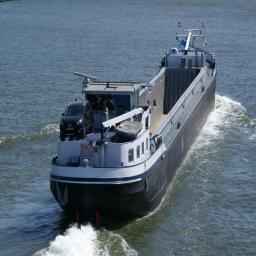tugboat: (50, 22, 220, 235)
